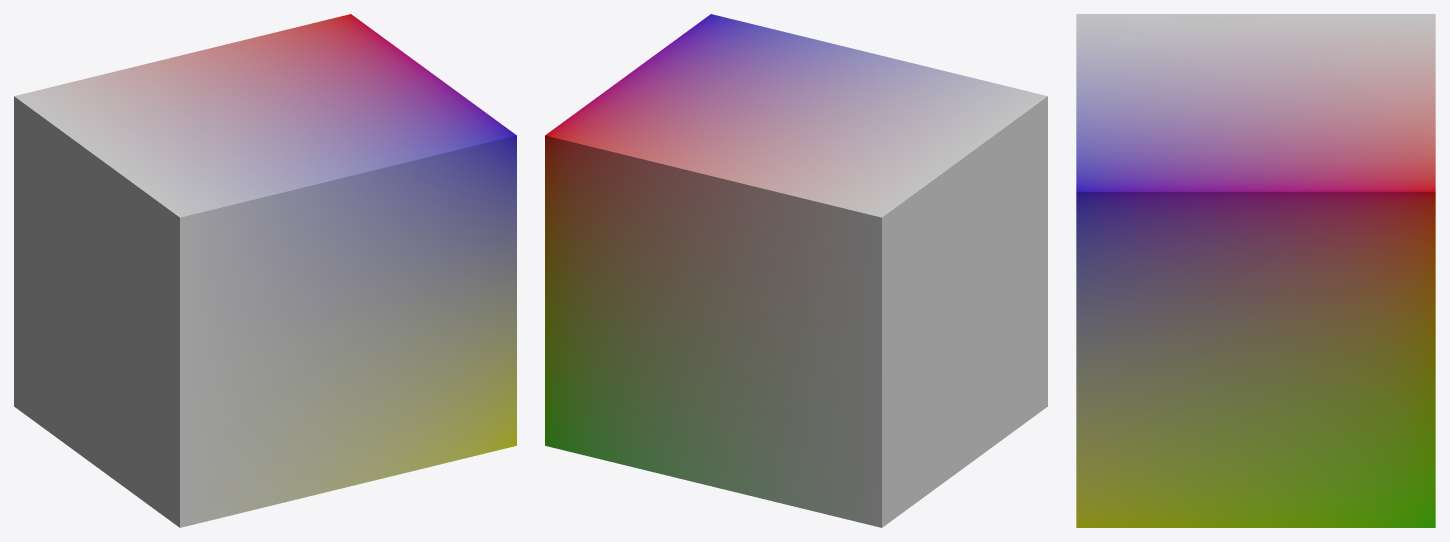
The model's file is testocube.glb.
3 renders of one model, left to right at view 1: azimuth 30°, elevation 25°; view 2: azimuth 150°, elevation 25°; view 3: azimuth 270°, elevation 25°, orthographic. The views are drawn at different scales.
Visible parts, largest first — view 1: Box001; view 2: Box001; view 3: Box001.
Boxes of the visible parts, x1,y1,x2,y2 form: Box001: (14,14,516,527); Box001: (545,14,1047,527); Box001: (1076,14,1435,527).
Bounding box in the file's own units: 0.7676 × 0.6755 × 0.6548.
